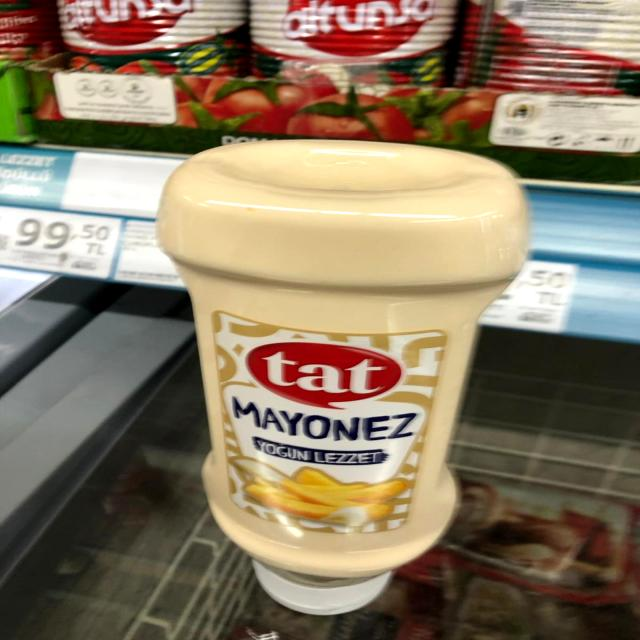mayonnaise: (152, 135, 539, 620)
